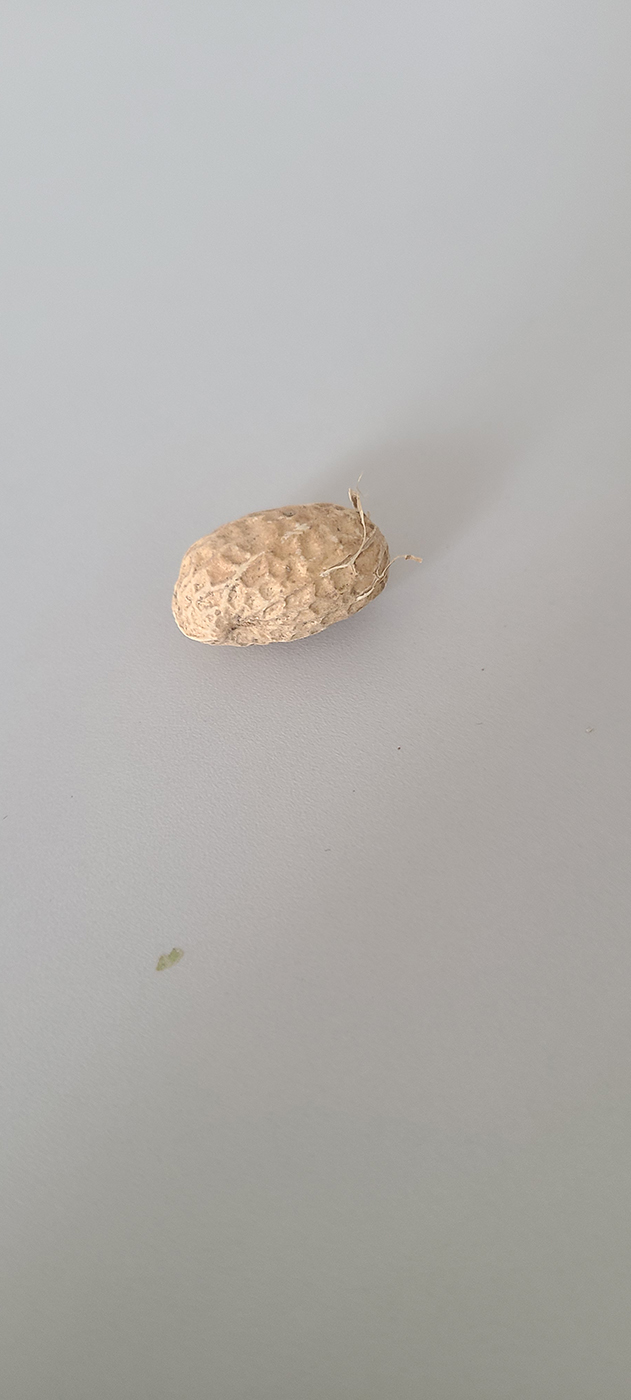h: (172, 504, 390, 649)
